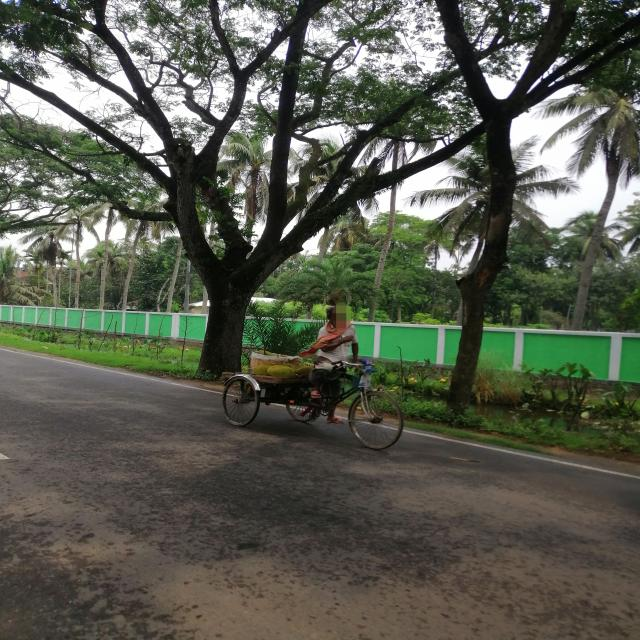Van: (220, 340, 405, 464)
